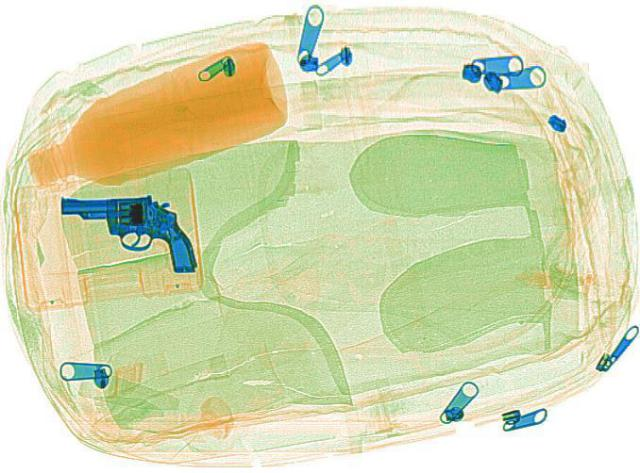Gun: (53, 168, 233, 281)
